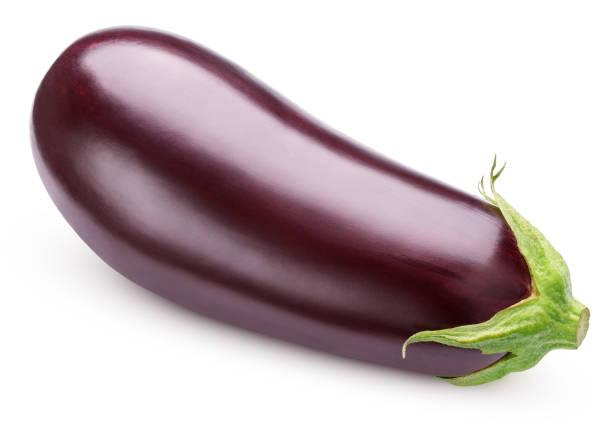Brinjal: (28, 15, 594, 383)
